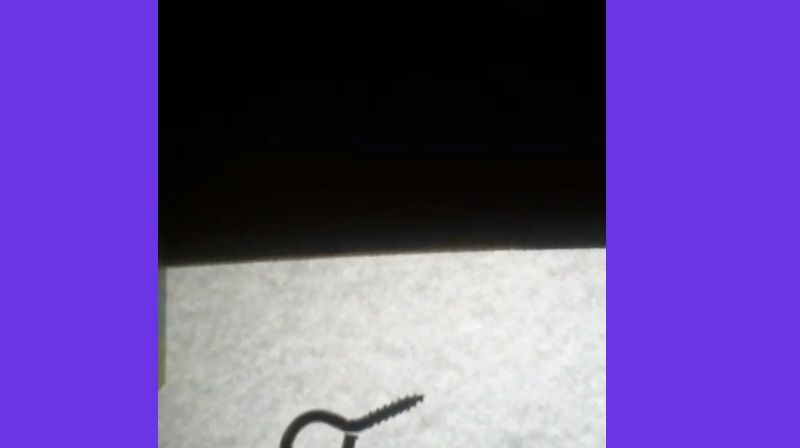O001: (274, 390, 426, 447)
